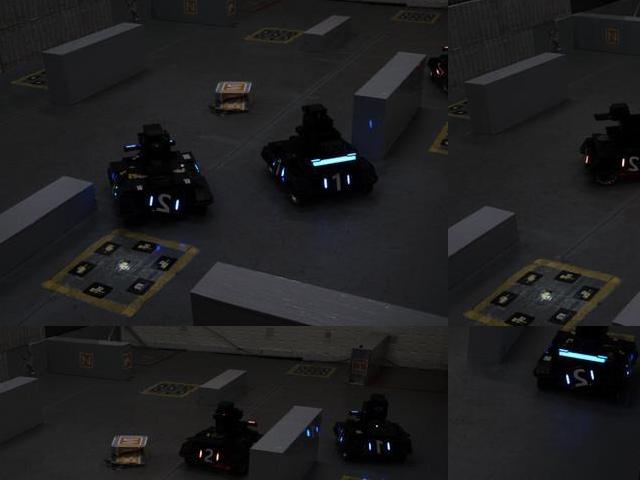armor: (316, 167, 356, 197), (146, 190, 185, 216), (563, 365, 596, 392), (266, 151, 290, 186), (195, 445, 223, 467), (365, 439, 393, 458), (615, 152, 639, 173), (432, 59, 447, 84)
